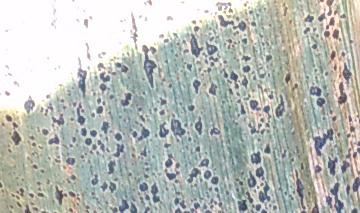tarspot: (139, 41, 161, 90), (309, 126, 336, 156), (290, 169, 309, 208), (189, 31, 204, 62), (127, 12, 139, 50), (168, 118, 187, 141), (50, 183, 68, 206), (75, 68, 90, 95), (332, 179, 343, 213), (274, 91, 286, 121), (335, 81, 348, 108), (258, 179, 271, 204), (326, 155, 340, 177), (186, 166, 201, 186), (22, 94, 36, 115), (119, 90, 134, 109), (151, 179, 161, 206), (216, 13, 235, 27), (111, 61, 130, 75), (341, 60, 353, 82), (75, 102, 86, 125), (9, 129, 22, 148), (193, 116, 204, 138), (305, 85, 325, 97), (204, 38, 218, 55), (248, 151, 265, 165), (157, 120, 169, 139), (48, 113, 67, 125), (87, 171, 101, 187), (105, 159, 118, 176), (112, 143, 126, 158), (245, 170, 256, 189), (207, 125, 223, 138), (340, 158, 352, 175), (137, 179, 150, 194), (138, 126, 154, 138), (191, 78, 203, 94), (164, 170, 180, 182), (236, 197, 248, 213), (315, 95, 328, 109), (207, 82, 219, 97), (249, 98, 261, 113), (118, 197, 129, 213), (164, 153, 175, 169), (98, 70, 111, 83), (240, 52, 254, 64), (247, 121, 258, 136), (197, 158, 213, 168), (64, 155, 76, 168), (112, 131, 125, 143), (107, 181, 119, 194), (209, 176, 222, 188), (254, 165, 266, 178), (235, 20, 247, 33), (50, 133, 61, 147), (96, 138, 107, 152), (352, 175, 360, 194), (229, 69, 239, 84), (94, 104, 106, 116), (303, 13, 315, 25), (184, 59, 195, 72), (100, 120, 110, 134), (184, 102, 198, 112), (239, 101, 247, 118), (284, 70, 293, 85), (262, 104, 271, 119), (332, 27, 341, 42), (3, 110, 14, 122), (39, 126, 51, 137), (234, 176, 246, 187), (66, 189, 79, 199), (129, 200, 139, 213), (202, 168, 212, 181), (81, 17, 91, 30), (324, 193, 332, 209), (100, 179, 109, 193), (22, 202, 33, 213), (78, 126, 89, 137), (157, 95, 168, 106), (343, 182, 351, 197), (241, 63, 251, 75), (326, 1, 334, 16), (141, 171, 154, 180), (329, 48, 337, 62), (207, 55, 221, 63), (98, 83, 109, 93), (130, 129, 140, 140), (193, 200, 203, 211), (162, 142, 173, 152), (300, 26, 311, 36), (125, 169, 136, 179), (87, 127, 99, 136), (240, 75, 249, 87), (202, 66, 214, 75), (264, 143, 273, 155), (163, 14, 176, 22), (19, 185, 27, 198), (30, 162, 40, 172), (83, 136, 93, 146), (326, 16, 336, 26), (240, 36, 250, 46), (265, 91, 275, 101), (1, 89, 12, 98), (139, 146, 148, 157), (322, 29, 331, 40), (316, 12, 325, 23), (46, 102, 55, 113), (217, 199, 224, 212), (68, 172, 78, 181), (27, 190, 36, 200), (193, 144, 202, 154), (221, 69, 230, 79), (330, 114, 339, 124), (348, 124, 357, 134), (314, 163, 323, 173), (225, 36, 235, 45), (201, 7, 211, 16), (264, 54, 275, 62), (248, 20, 259, 28), (345, 147, 353, 158), (331, 63, 339, 74), (96, 51, 107, 59), (339, 50, 347, 61), (127, 152, 139, 159), (192, 24, 201, 33), (310, 41, 319, 50), (259, 126, 268, 135), (212, 186, 221, 195), (312, 65, 321, 74), (58, 96, 67, 105), (36, 190, 44, 200), (158, 108, 166, 118), (34, 180, 44, 188), (356, 137, 360, 157), (258, 71, 268, 79), (166, 81, 174, 91), (270, 203, 280, 211), (255, 201, 262, 212), (227, 86, 234, 97), (65, 206, 76, 213), (182, 47, 190, 56), (346, 114, 354, 123), (223, 56, 229, 68), (158, 31, 166, 40), (14, 201, 23, 209), (27, 133, 37, 140), (340, 12, 347, 22), (323, 69, 330, 79), (136, 105, 144, 113), (111, 204, 118, 213), (349, 206, 358, 213), (29, 141, 38, 148), (146, 1, 155, 8), (336, 130, 343, 139), (173, 196, 179, 206), (248, 8, 254, 18), (71, 136, 77, 143)
